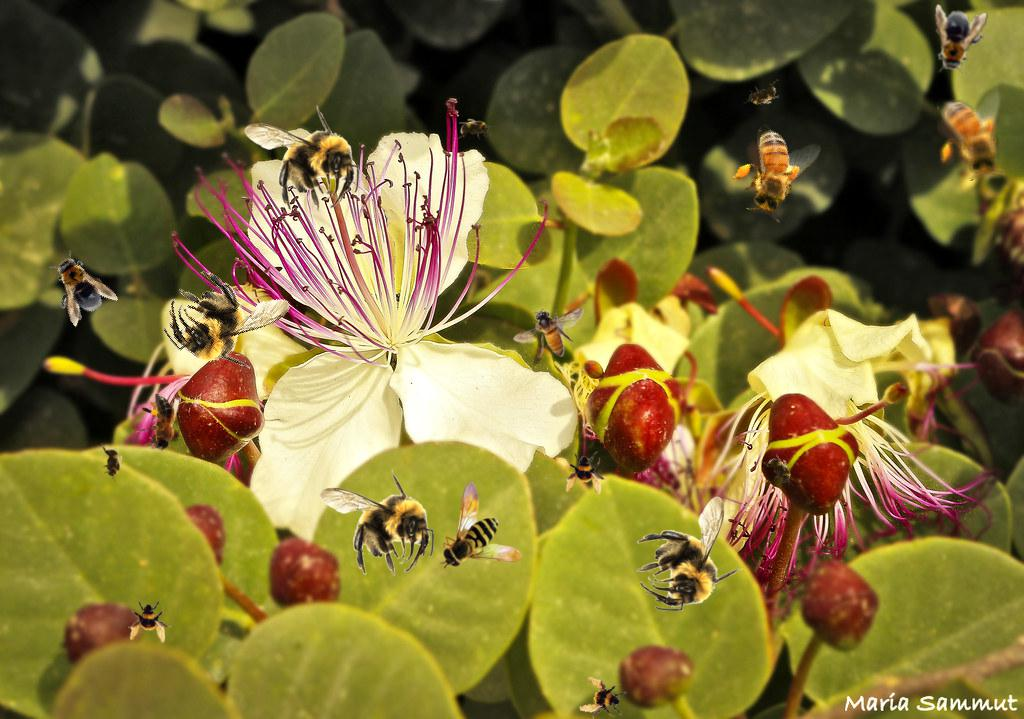Bee: (149, 240, 306, 397), (719, 112, 827, 229), (636, 496, 743, 611), (244, 105, 359, 212), (319, 469, 434, 576), (440, 481, 522, 569), (37, 243, 119, 329), (937, 88, 1005, 181), (926, 3, 988, 79), (513, 307, 584, 357), (136, 394, 181, 460), (576, 673, 630, 719), (564, 451, 608, 495), (128, 599, 172, 643), (759, 448, 801, 494), (739, 78, 785, 112), (101, 443, 123, 483), (455, 118, 495, 140)
